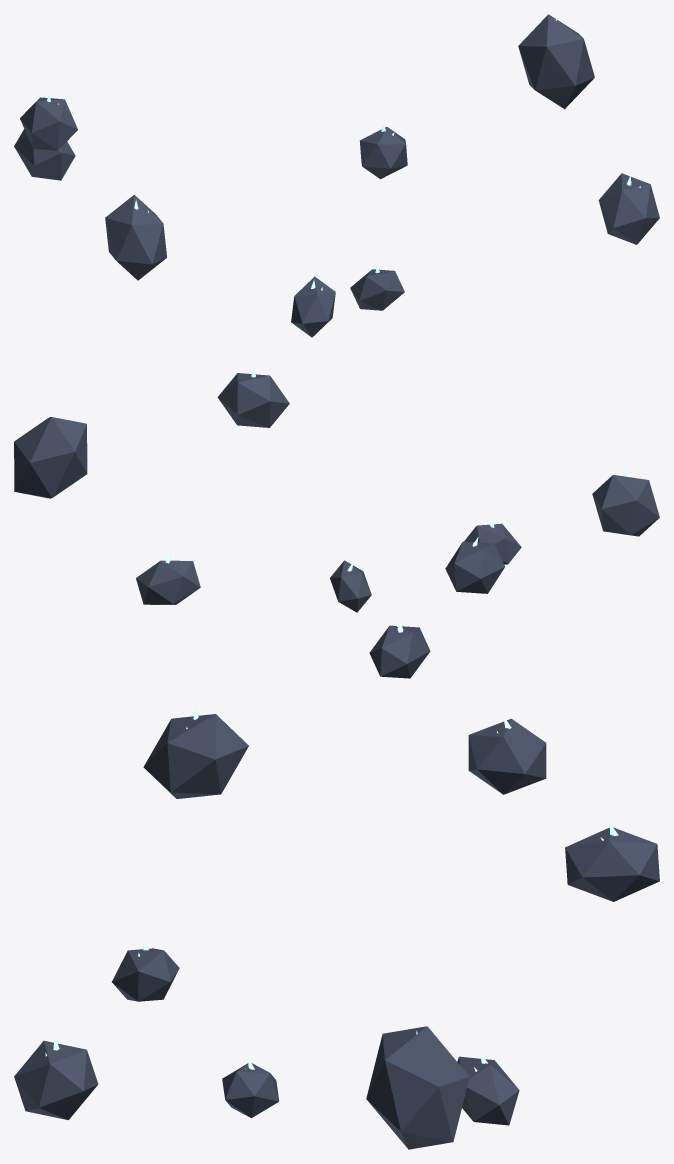
File: floating-rocks.glb
3 views of the same model, one above another, from view 1: azimuth 30°, elevation 25°; view 2: azimuth 150°, elevation 25°; view 3: azimuth 270°, elevation 25° (orthographic). The views are drawn at different scales.
Parts seen in each view (by area): view 1: FloatingRock_1_rockSurface, FloatingRock_0_rockSurface, FloatingRock_3_rockSurface, FloatingRock_7_rockSurface, FloatingRock_5_rockSurface, FloatingRock_4_rockSurface, FloatingRock_2_rockSurface, FloatingRock_6_rockSurface; view 2: FloatingRock_1_rockSurface, FloatingRock_0_rockSurface, FloatingRock_3_rockSurface, FloatingRock_2_rockSurface, FloatingRock_7_rockSurface, FloatingRock_5_rockSurface, FloatingRock_6_rockSurface, FloatingRock_4_rockSurface; view 3: FloatingRock_1_rockSurface, FloatingRock_0_rockSurface, FloatingRock_2_rockSurface, FloatingRock_3_rockSurface, FloatingRock_7_rockSurface, FloatingRock_5_rockSurface, FloatingRock_4_rockSurface, FloatingRock_6_rockSurface.
Part boxes in pixels (left/top/right/bottom): FloatingRock_1_rockSurface: left=518, top=14, right=594, bottom=109; FloatingRock_0_rockSurface: left=105, top=194, right=166, bottom=280; FloatingRock_3_rockSurface: left=598, top=173, right=659, bottom=244; FloatingRock_7_rockSurface: left=20, top=97, right=77, bottom=150; FloatingRock_5_rockSurface: left=359, top=127, right=407, bottom=179; FloatingRock_4_rockSurface: left=291, top=276, right=335, bottom=337; FloatingRock_2_rockSurface: left=14, top=129, right=75, bottom=180; FloatingRock_6_rockSurface: left=350, top=269, right=404, bottom=310; FloatingRock_1_rockSurface: left=14, top=417, right=87, bottom=498; FloatingRock_0_rockSurface: left=592, top=475, right=659, bottom=536; FloatingRock_3_rockSurface: left=217, top=373, right=289, bottom=427; FloatingRock_2_rockSurface: left=369, top=625, right=430, bottom=678; FloatingRock_7_rockSurface: left=445, top=541, right=505, bottom=593; FloatingRock_5_rockSurface: left=136, top=560, right=200, bottom=604; FloatingRock_6_rockSurface: left=330, top=560, right=371, bottom=612; FloatingRock_4_rockSurface: left=464, top=523, right=521, bottom=564; FloatingRock_1_rockSurface: left=366, top=1026, right=469, bottom=1149; FloatingRock_0_rockSurface: left=143, top=714, right=248, bottom=798; FloatingRock_2_rockSurface: left=565, top=827, right=659, bottom=901; FloatingRock_3_rockSurface: left=14, top=1040, right=98, bottom=1120; FloatingRock_7_rockSurface: left=468, top=718, right=546, bottom=794; FloatingRock_5_rockSurface: left=457, top=1056, right=519, bottom=1125; FloatingRock_4_rockSurface: left=112, top=948, right=179, bottom=1001; FloatingRock_6_rockSurface: left=222, top=1063, right=279, bottom=1118.
Bounding box in the file's own units: 21.56 × 7.28 × 16.61.
